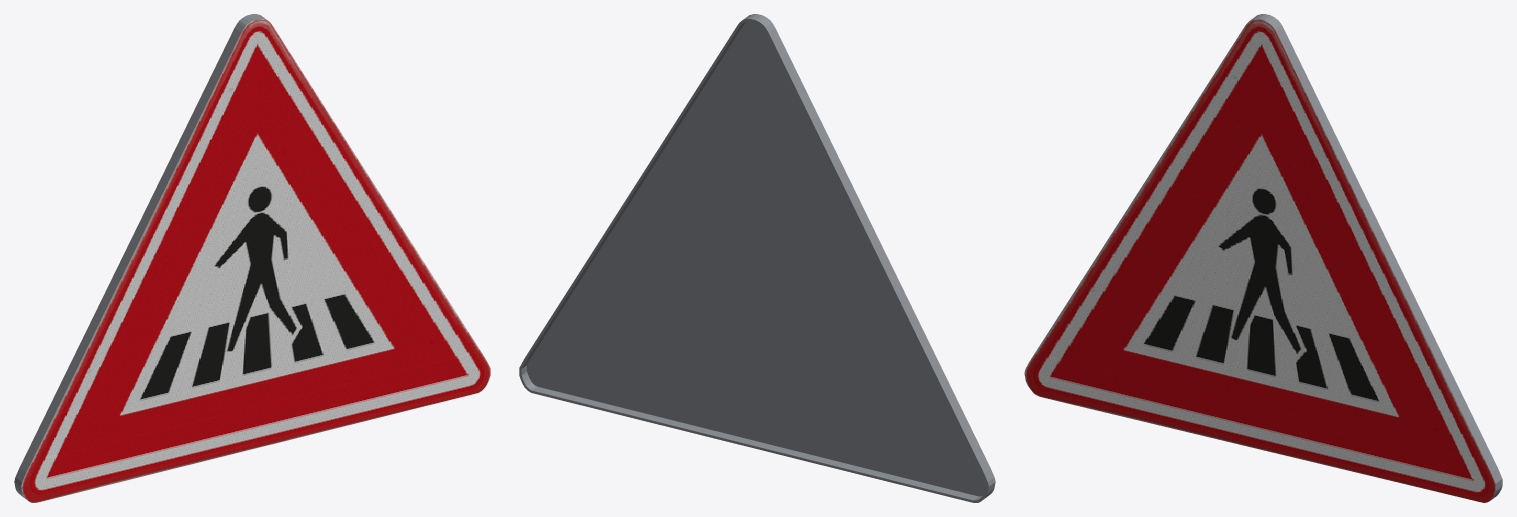
3 views of the same model, side by side, from view 1: azimuth 30°, elevation 25°; view 2: azimuth 150°, elevation 25°; view 3: azimuth 330°, elevation 25° (orthographic).
Parts seen in each view (by area): view 1: cat_beb65afe07832a6c; view 2: cat_beb65afe07832a6c; view 3: cat_beb65afe07832a6c.
Part boxes in pixels (x1,y1,x2,y2): cat_beb65afe07832a6c: [14, 14, 490, 502]; cat_beb65afe07832a6c: [519, 14, 995, 502]; cat_beb65afe07832a6c: [1024, 14, 1502, 502].
Bounding box in the file's own units: 0.6 × 0.015 × 0.5245.
2 materials, 1 textured.
